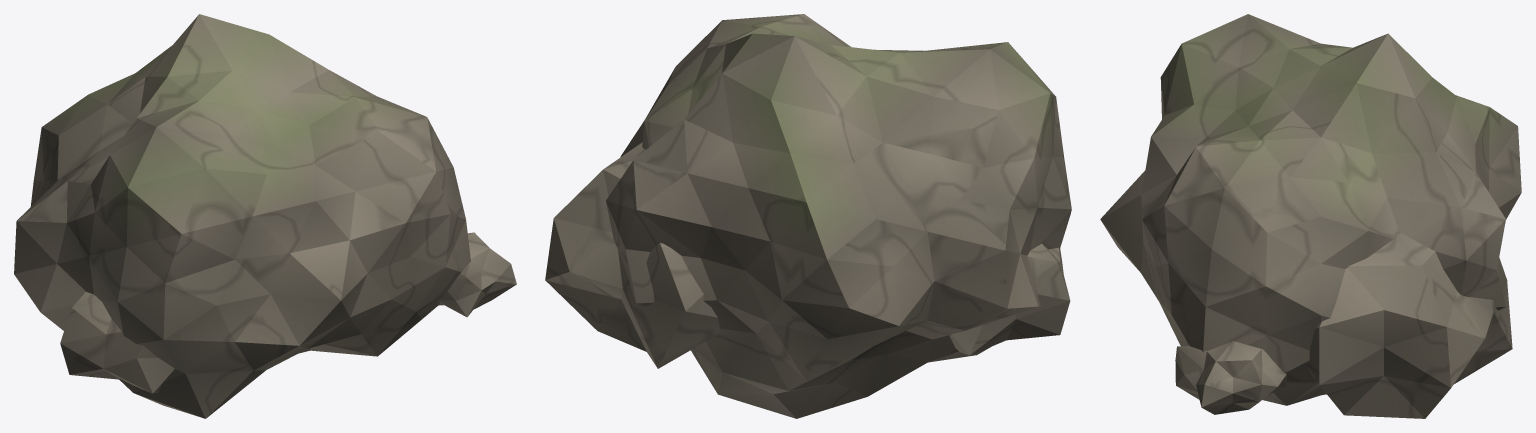
File: rock_a-s05jwaw3.glb
3 renders of one model, left to right at view 1: azimuth 30°, elevation 25°; view 2: azimuth 150°, elevation 25°; view 3: azimuth 270°, elevation 25°, orthographic. The views are drawn at different scales.
Parts seen in each view (by area): view 1: Rock; view 2: Rock; view 3: Rock.
Part boxes in pixels (x1,y1,x2,y2): Rock: [14, 14, 516, 418]; Rock: [545, 14, 1071, 418]; Rock: [1100, 14, 1521, 418].
Size of the model in its own units: 0.7895 by 0.634 by 0.671.
Materials: 1 (1 with a texture image).
